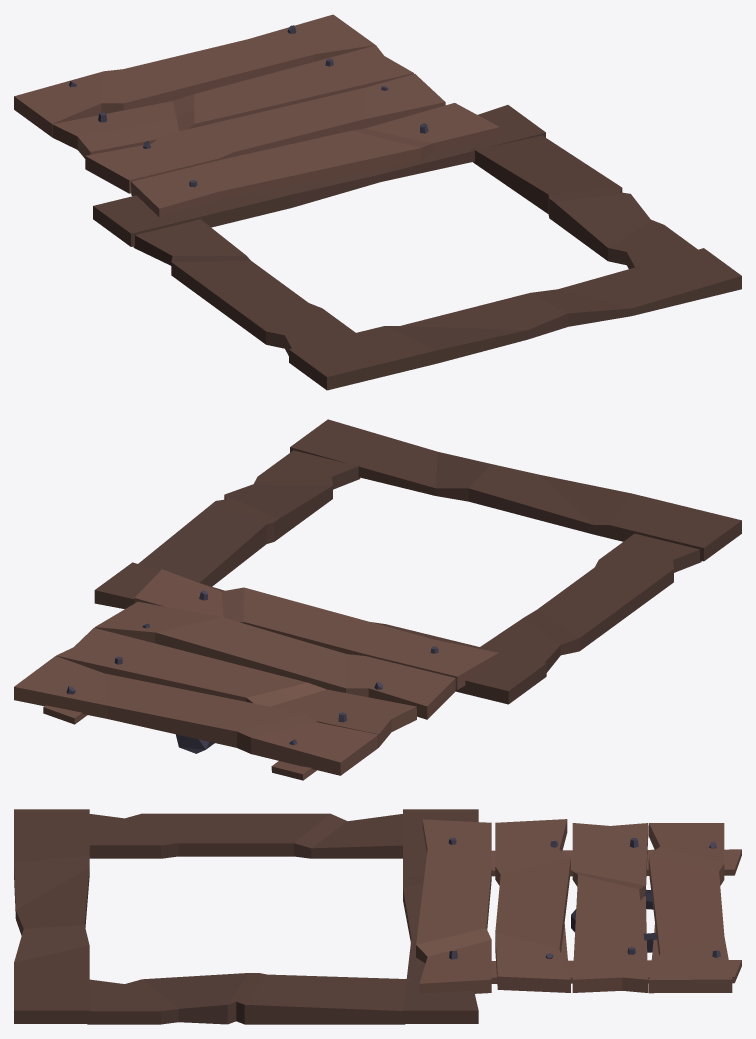
The model's file is Trapdoor_open.glb.
The picture shows the model from 3 angles, top to bottom: view 1: azimuth 30°, elevation 25°; view 2: azimuth 150°, elevation 25°; view 3: azimuth 270°, elevation 25°; orthographic projection.
Parts seen in each view (by area): view 1: Trapdoor_open; view 2: Trapdoor_open; view 3: Trapdoor_open.
Boxes of the visible parts, x1,y1,x2,y2 form: Trapdoor_open: [14, 14, 741, 390]; Trapdoor_open: [14, 419, 741, 780]; Trapdoor_open: [14, 809, 741, 1024].
Bounding box in the file's own units: 0.7313 × 0.0856 × 1.12.
